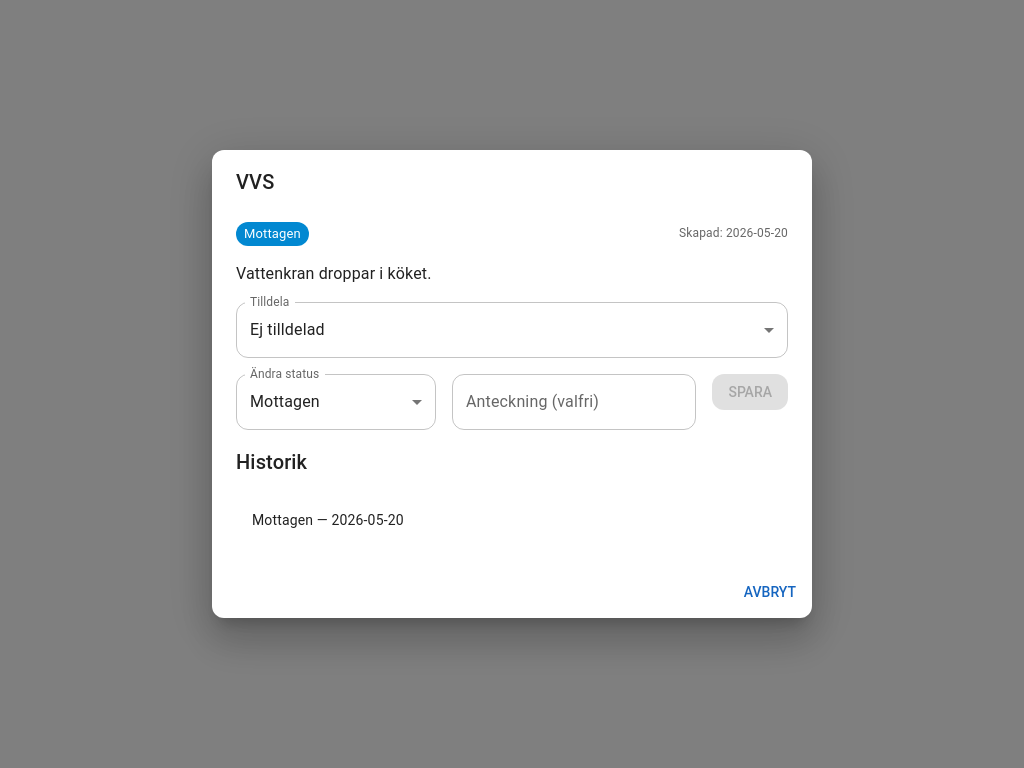
it: RequestDetailDialog › assigns a staff member
Expected: the text "Vattenkran droppar i köket." is shown, x1=236 y1=264 x2=432 y2=283
Click the dropdown labelled "Ej tilldelad" at (287, 330), box x1=250 y1=320 x2=325 y2=339
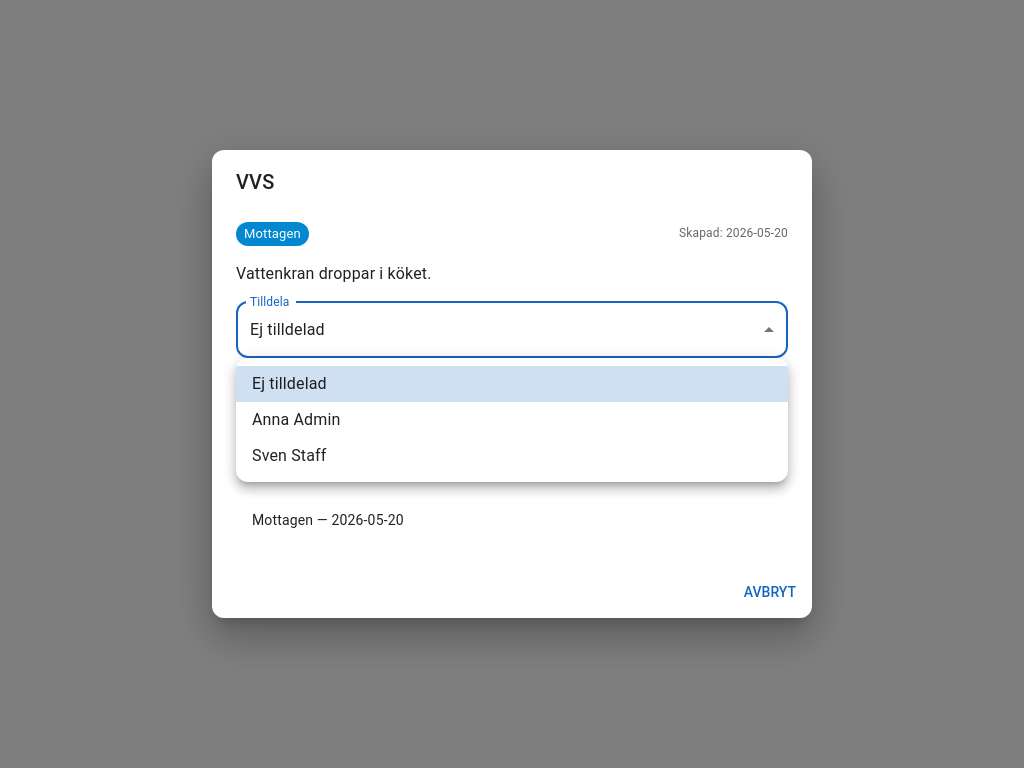
Click the option "Sven Staff" at (289, 456), box x1=252 y1=446 x2=326 y2=465
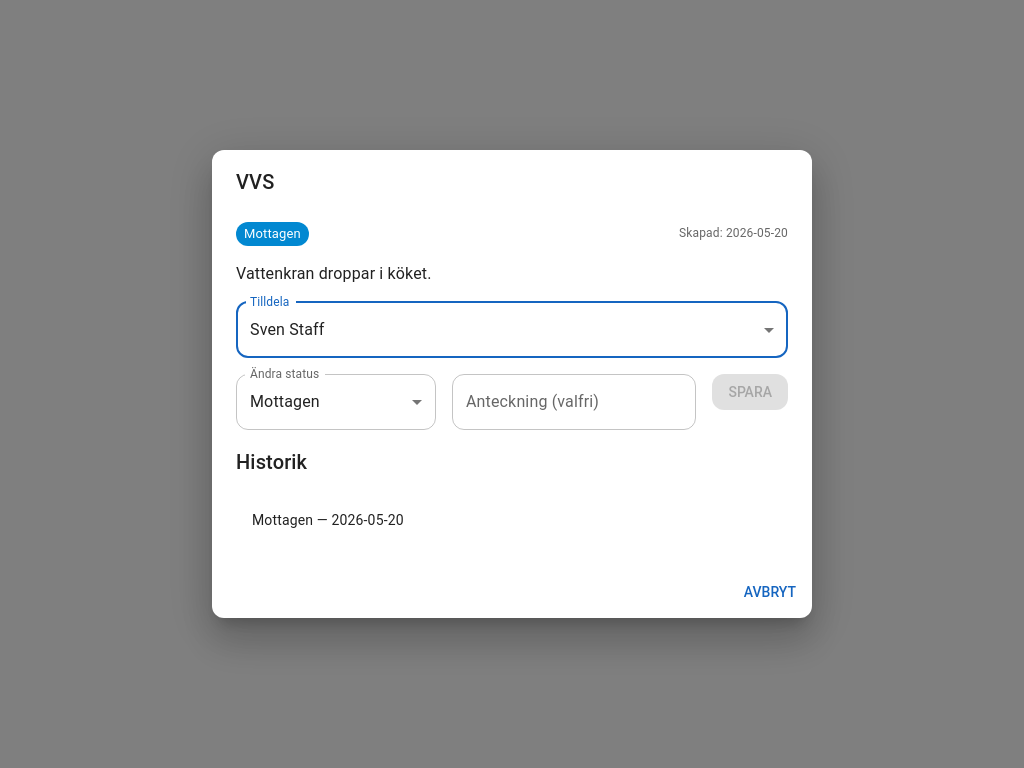
Expected: the dropdown "Sven Staff" is shown, x1=250 y1=320 x2=324 y2=339
